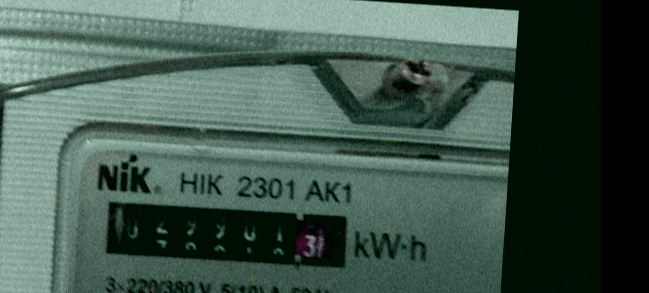0: (123, 212, 142, 240), (242, 213, 259, 243)
1: (273, 214, 287, 243)
2: (153, 208, 173, 236)
3: (301, 231, 319, 258)
9: (183, 210, 200, 238), (214, 213, 228, 240)
screen: (96, 190, 360, 279)
